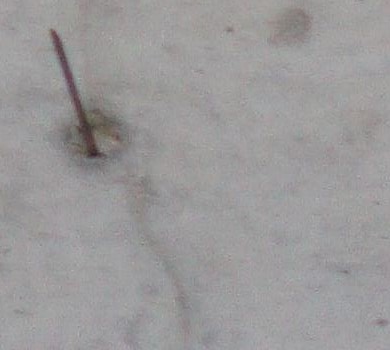Exposed reinforcement: (49, 28, 98, 155)
Spalling: (60, 107, 124, 159)
